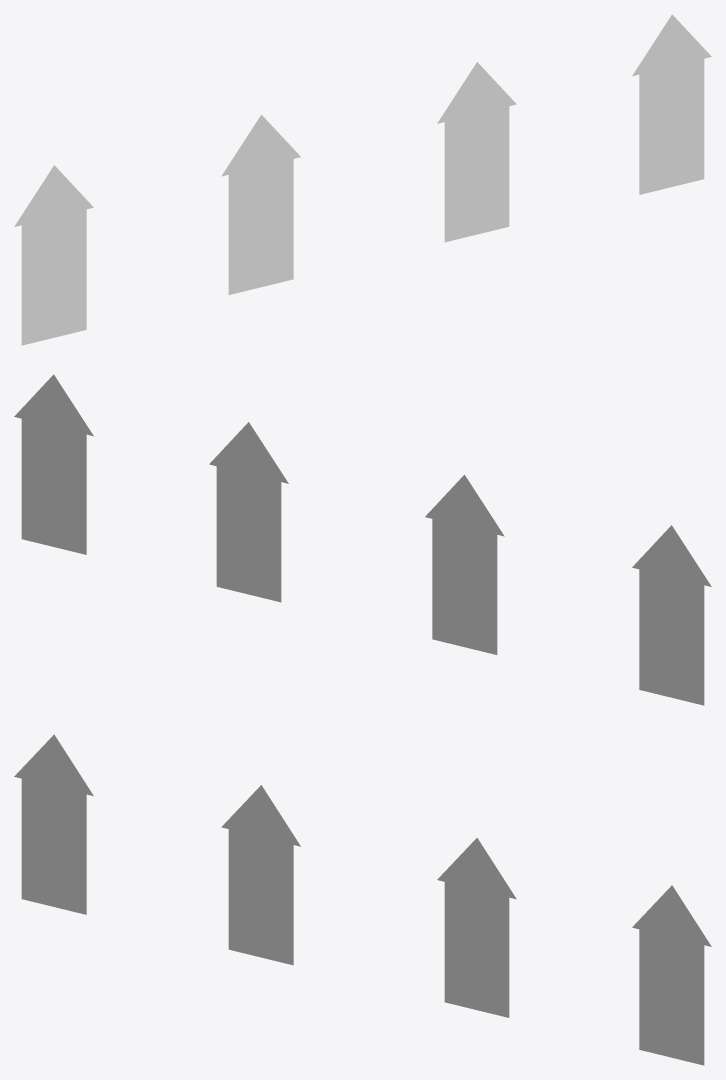
Rendered from arrow.fbx.
The picture shows the model from 3 angles, top to bottom: view 1: azimuth 30°, elevation 25°; view 2: azimuth 150°, elevation 25°; view 3: azimuth 330°, elevation 25°; orthographic projection.
Parts seen in each view (by area): view 1: arrow; view 2: arrow; view 3: arrow.
Boxes of the visible parts, x1,y1,x2,y2 form: arrow: [14, 14, 711, 345]; arrow: [14, 374, 711, 705]; arrow: [14, 734, 711, 1065].
Bounding box in the file's own units: 39.46 × 9.34 × 0.
